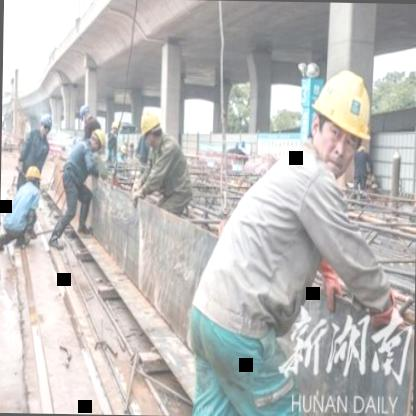helmet: (300, 56, 376, 180), (138, 107, 162, 149), (24, 159, 45, 193), (34, 112, 54, 140), (85, 127, 106, 150), (78, 101, 92, 122)
